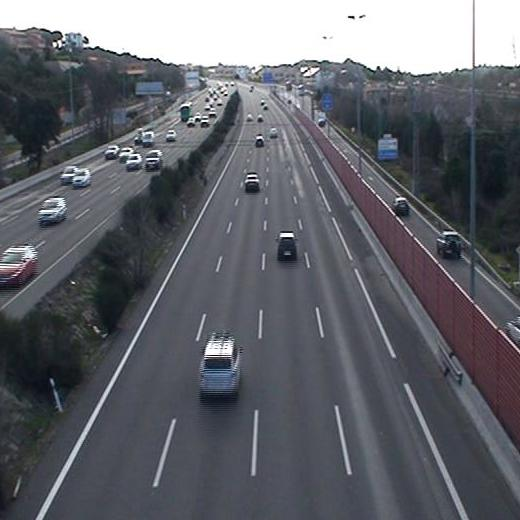car: (198, 334, 239, 395), (276, 232, 297, 258), (244, 173, 259, 192), (255, 137, 265, 149)
